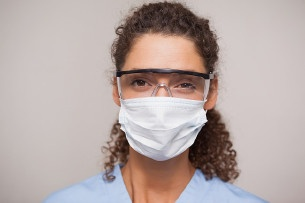Mask: (115, 63, 213, 161)
